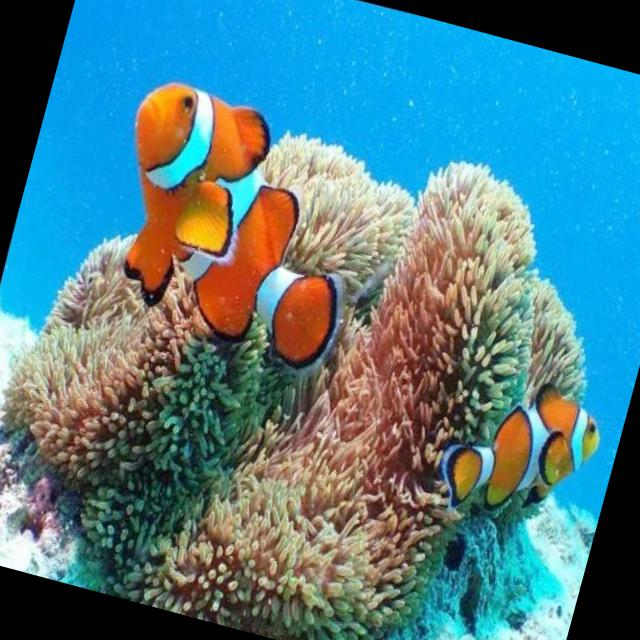ClownFish: (78, 74, 392, 389), (436, 364, 614, 541)
